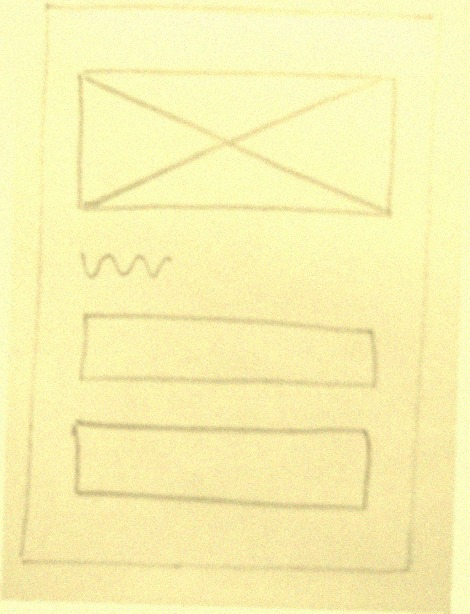image: (67, 55, 402, 231)
text: (71, 244, 178, 287)
text_input: (70, 303, 385, 403), (63, 414, 378, 513)
